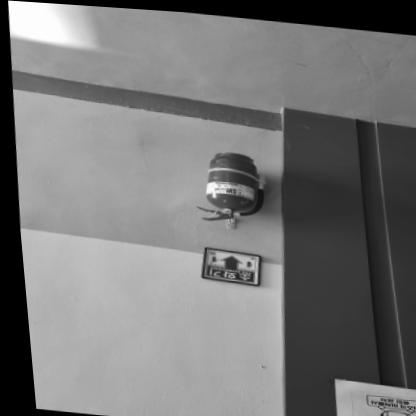FE: (187, 145, 265, 223)
